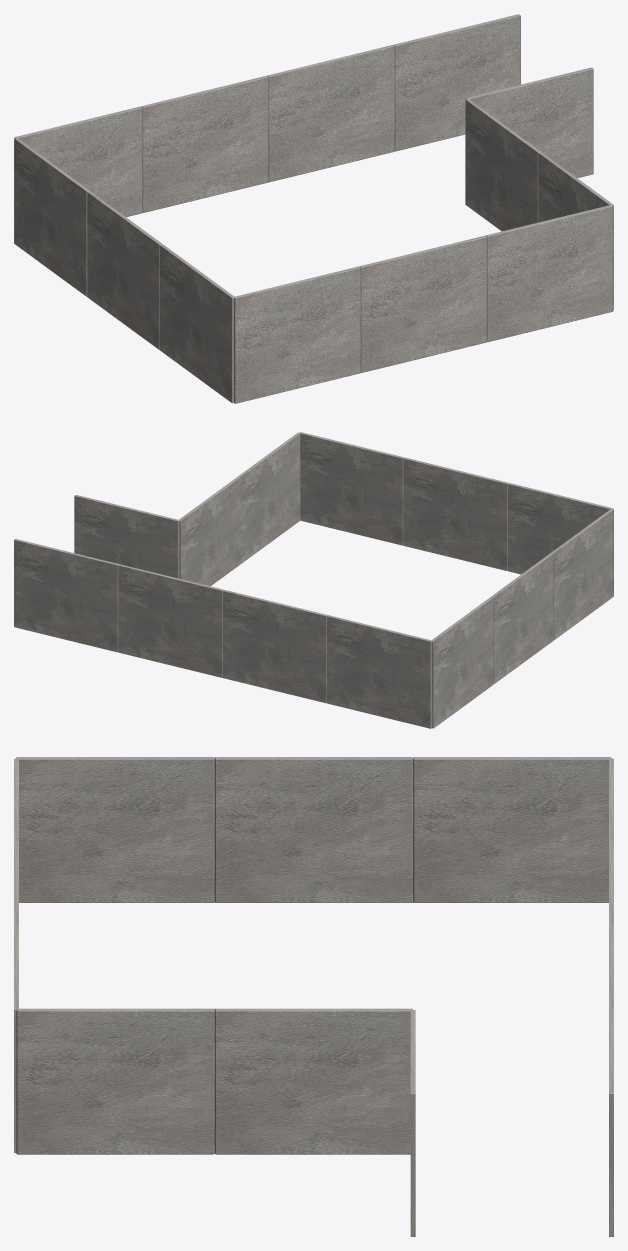
File: NormalRoom_Wall.fbx
The picture shows the model from 3 angles, top to bottom: view 1: azimuth 30°, elevation 25°; view 2: azimuth 150°, elevation 25°; view 3: azimuth 270°, elevation 25°; orthographic projection. The views are drawn at different scales.
Visible parts, largest first — view 1: NormalRoom_Wall; view 2: NormalRoom_Wall; view 3: NormalRoom_Wall.
Boxes of the visible parts, x1=… form: NormalRoom_Wall: x1=14, y1=14, x2=613, y2=403; NormalRoom_Wall: x1=14, y1=432, x2=613, y2=728; NormalRoom_Wall: x1=14, y1=757, x2=613, y2=1236.
Size of the model in its own units: 4012 by 800 by 3025.
1 material, 1 textured.
